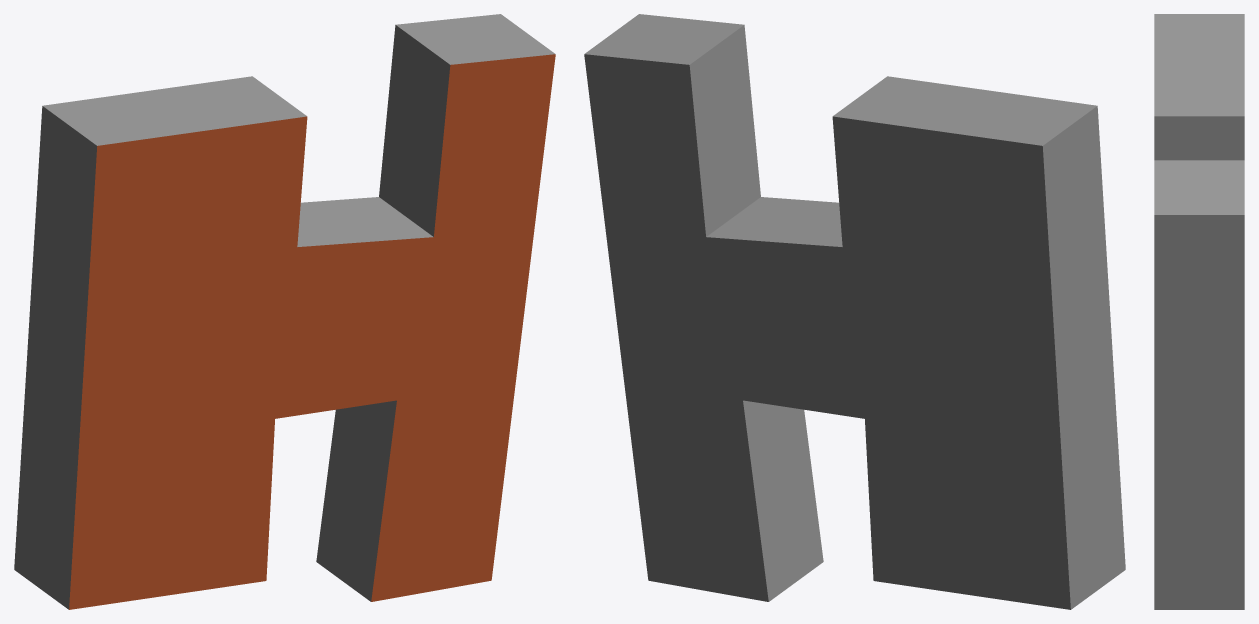
The model's file is construction_1556_assumed_A_Casa_h6m.obj.
The picture shows the model from 3 angles, left to right: view 1: azimuth 30°, elevation 25°; view 2: azimuth 150°, elevation 25°; view 3: azimuth 270°, elevation 25°; orthographic projection. The views are drawn at different scales.
Parts seen in each view (by area): view 1: construction_1556_assumed_A_Casa; view 2: construction_1556_assumed_A_Casa; view 3: construction_1556_assumed_A_Casa.
Part boxes in pixels (<box>): construction_1556_assumed_A_Casa: <box>14,14,555,609</box>; construction_1556_assumed_A_Casa: <box>584,14,1125,609</box>; construction_1556_assumed_A_Casa: <box>1154,14,1244,609</box>.
Bounding box in the file's own units: 30.72 × 32.02 × 6.
